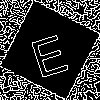E: (25, 25, 71, 79)
